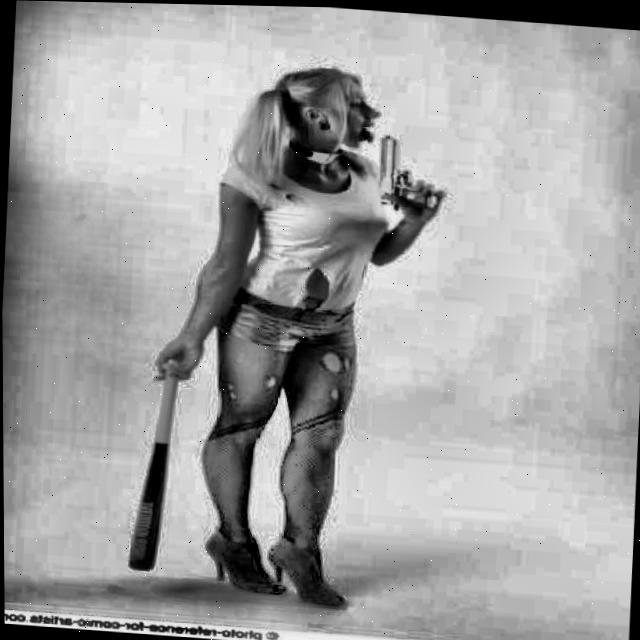tongkat pemukul: (87, 339, 207, 582)
